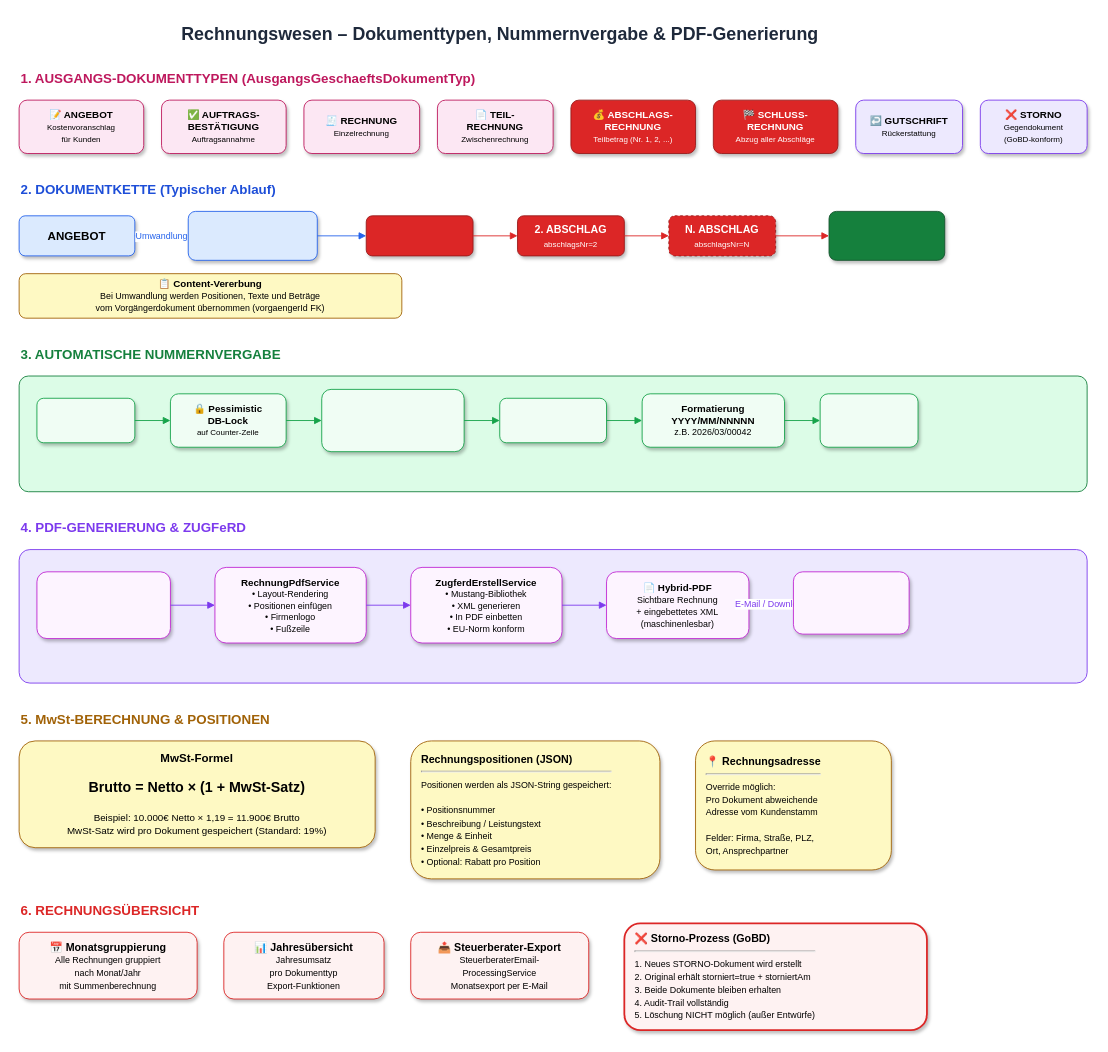
This 1108x1052 diagram has some shape labels left out. Each missing label, with the centre of its shape:
1. ABSCHLAG abschlagsNr=1: point 420,236
AUFTRAGS- BESTÄTIGUNG: point 253,237
Counter + 1 Hochzählen & speichern: point 553,421
Counter lesen AusgangsDokument- Counter (DB-Entity) aktueller Zählerstand: point 393,421
Dokument erstellen: point 86,421
Rechnungsdaten Positionen (JSON) Kunde, Betrag MwSt-Satz: point 104,606
SCHLUSS- RECHNUNG: point 887,237
📤 Versand Per E-Mail oder Download → gebucht=true: point 851,603
🔒 Release Lock Nummer zugewiesen: point 869,421
